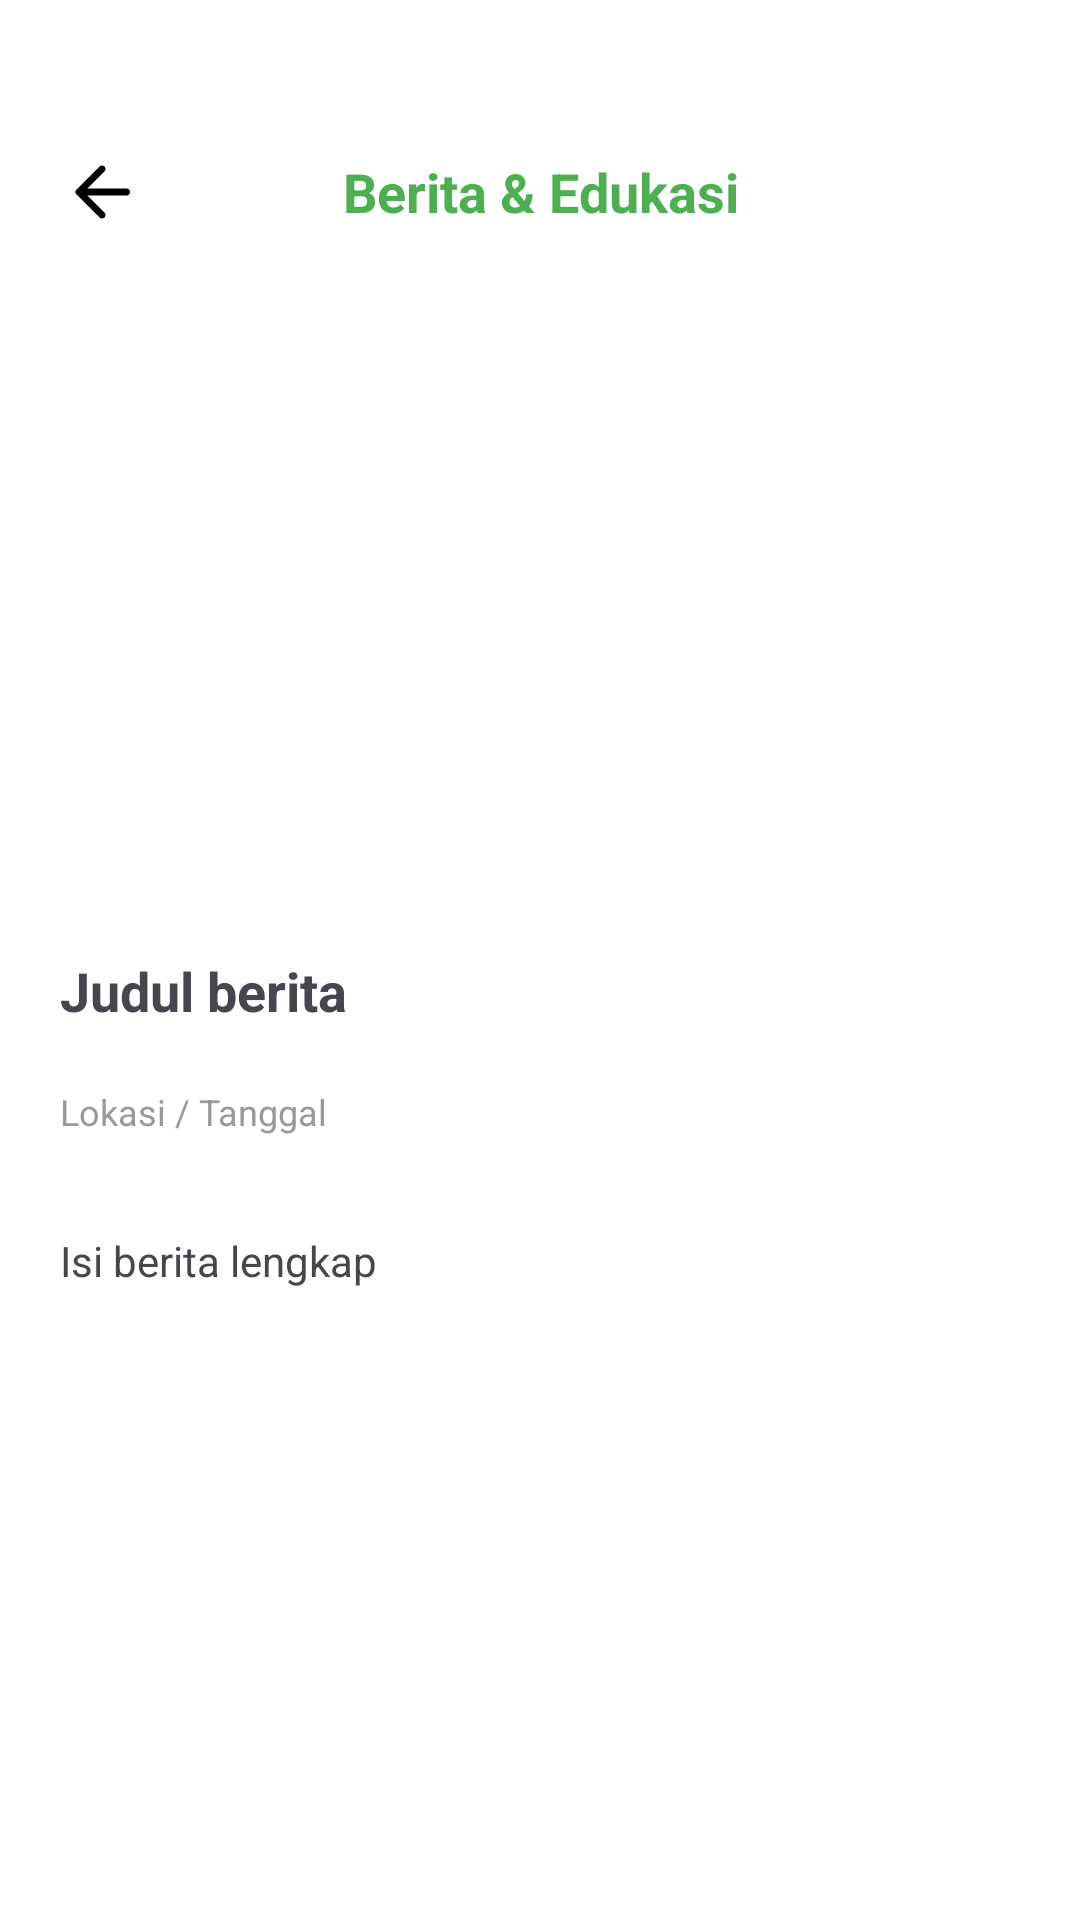

Where icons sit on this 1080px x 1920px app screen, as Rect(x1, y1, x2, y2):
Kembali: Rect(75, 165, 130, 219)
